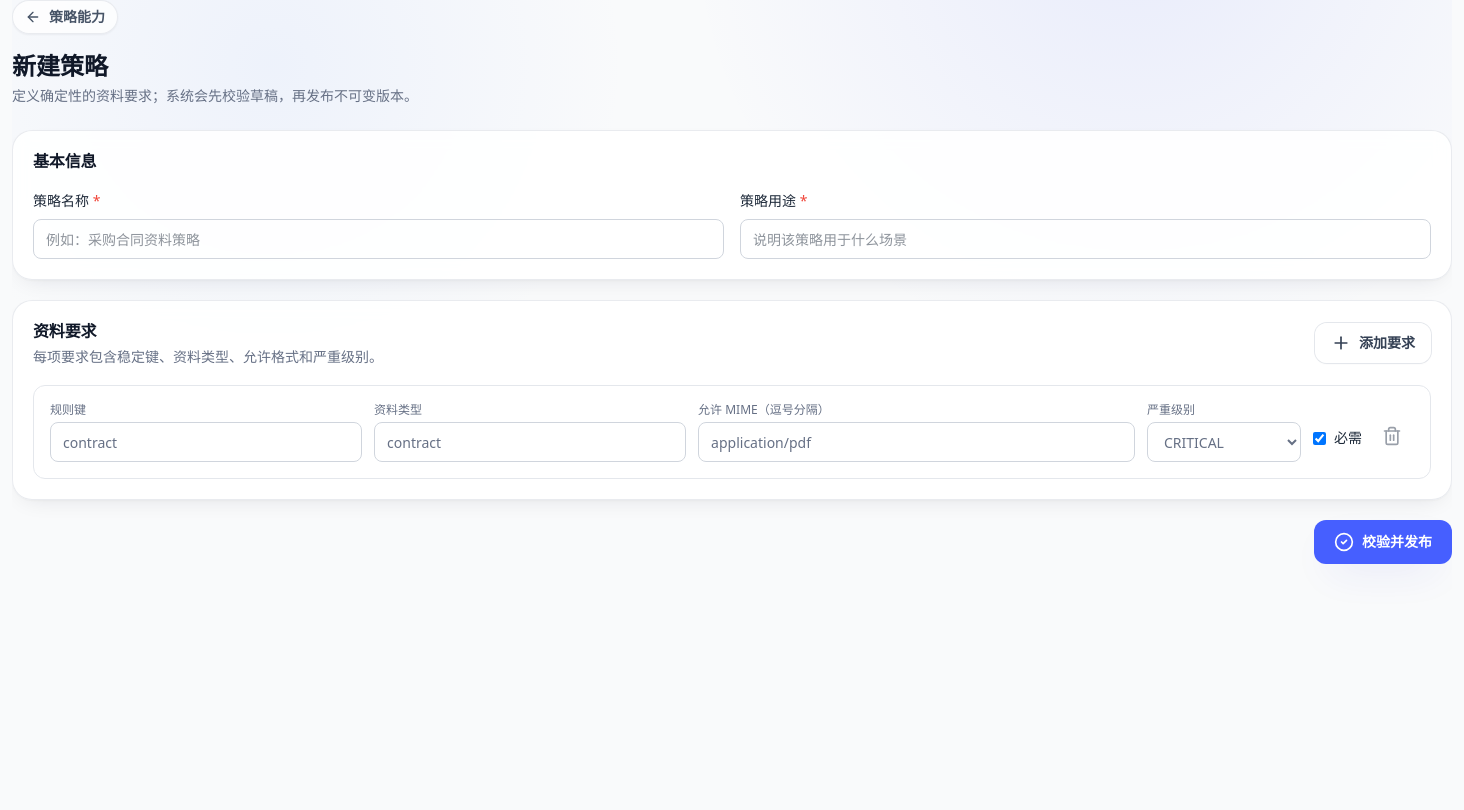
Test case: policy create page › explains missing required fields instead of silently disabling publish
This screenshot has width=1464, height=810.
Click the button "校验并发布": (1383, 542) [1314, 520, 1452, 564]
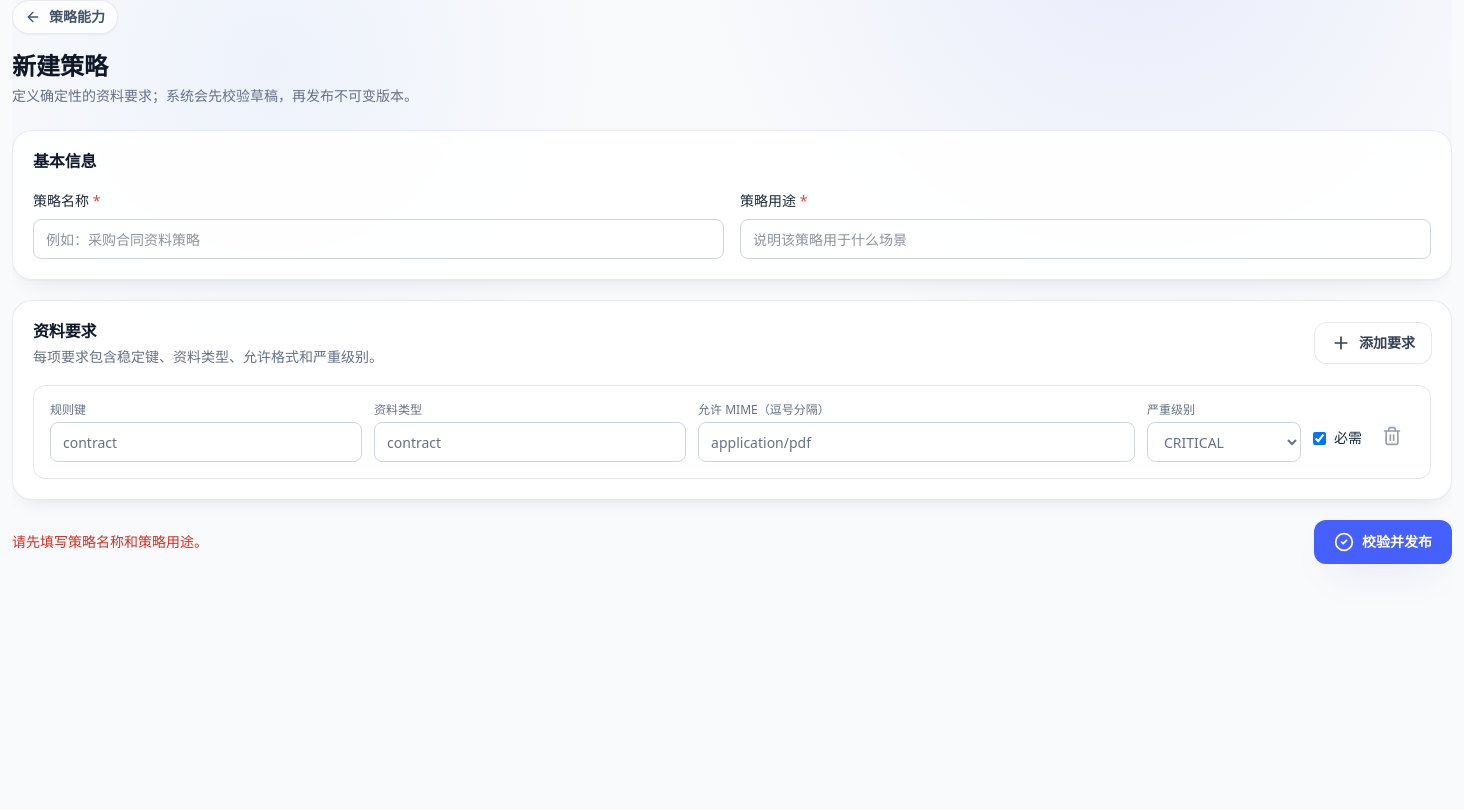
Expected: the message shows "请先填写策略名称和策略用途", [12, 532, 208, 551]
